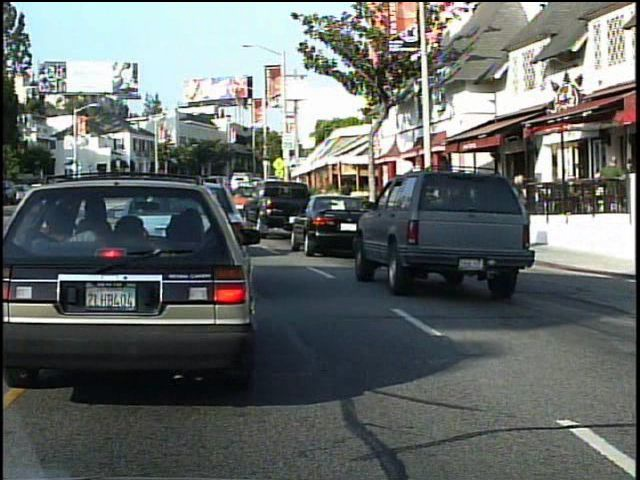person: (592, 150, 629, 233)
